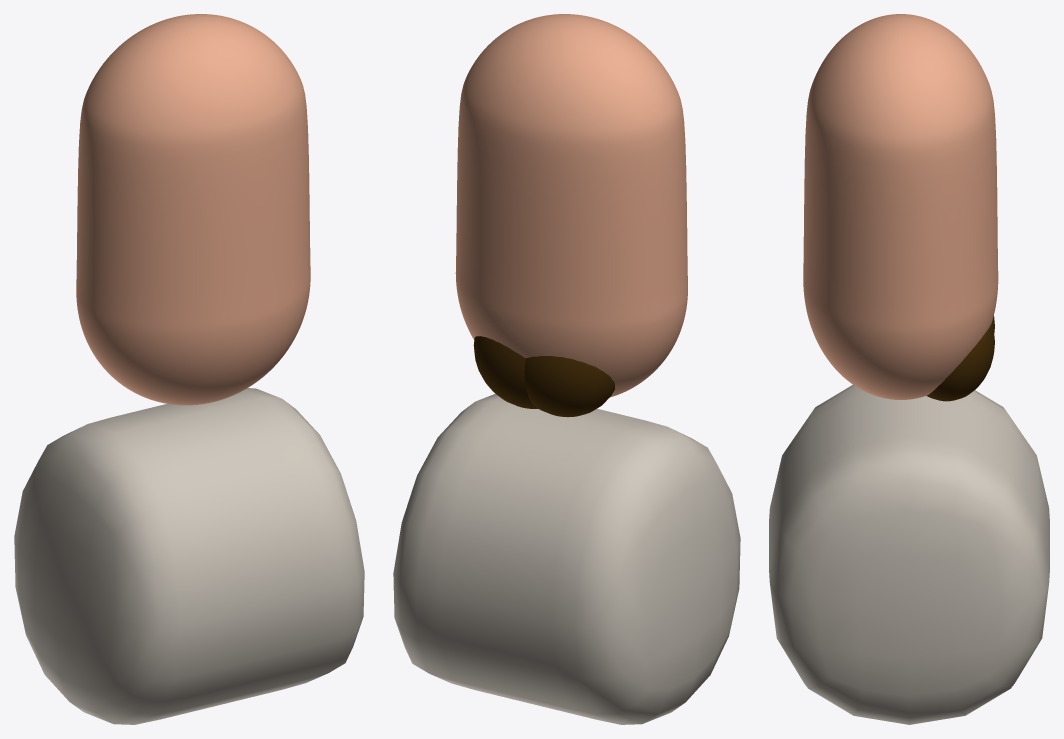
The model's file is avatar_2.glb.
The picture shows the model from 3 angles, left to right: view 1: azimuth 30°, elevation 25°; view 2: azimuth 150°, elevation 25°; view 3: azimuth 270°, elevation 25°; orthographic projection. The views are drawn at different scales.
Visible parts, largest first — view 1: body, head; view 2: body, head, cheveux_1; view 3: body, head, cheveux_1.
Part boxes in pixels (<box>): body: <box>14,388,364,724</box>; head: <box>76,14,310,405</box>; body: <box>393,393,740,724</box>; head: <box>455,14,687,397</box>; cheveux_1: <box>473,336,615,417</box>; body: <box>769,385,1049,724</box>; head: <box>803,14,998,399</box>; cheveux_1: <box>926,315,994,401</box>.
Size of the model in its own units: 0.7188 by 1.75 by 0.6803.
